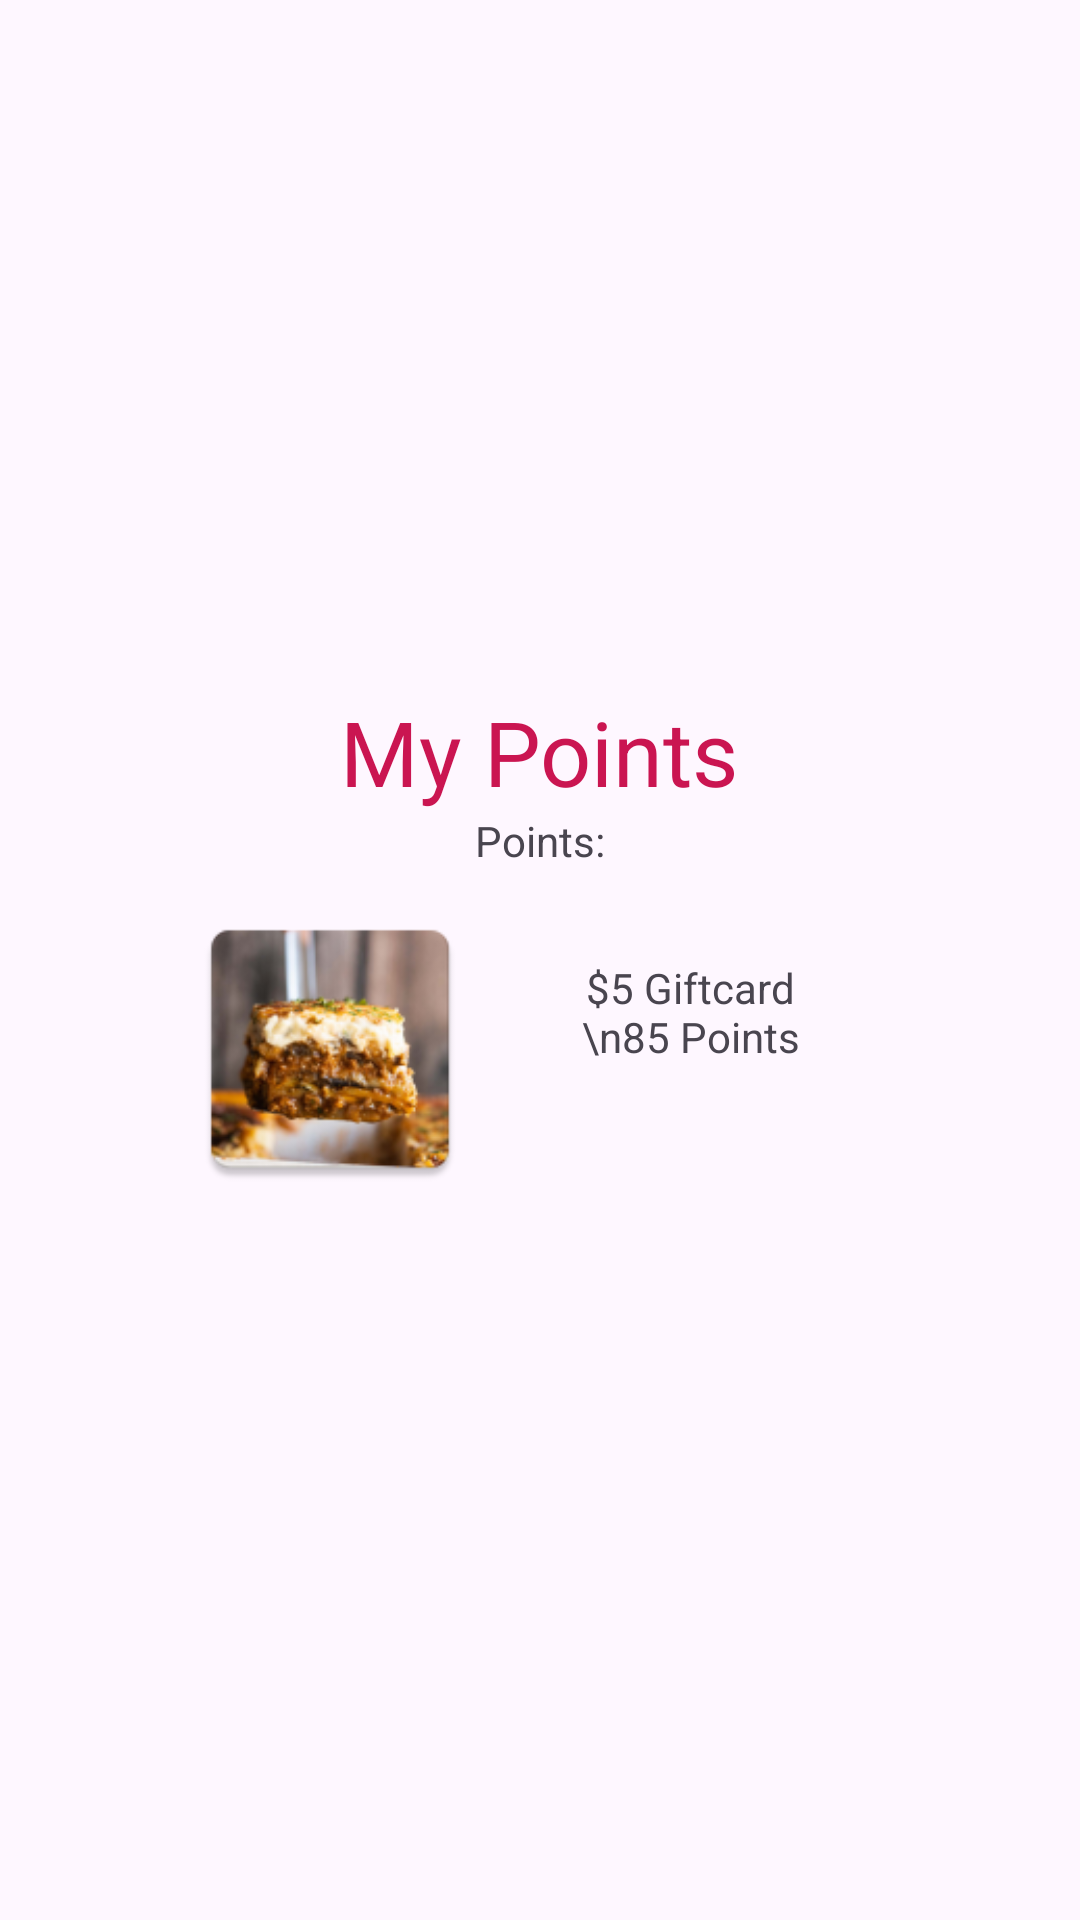

Icons on this 1080x1920 Android screen, each with its box as (x1,y1,x2,y2):
moussaka: (210,930,450,1175)
